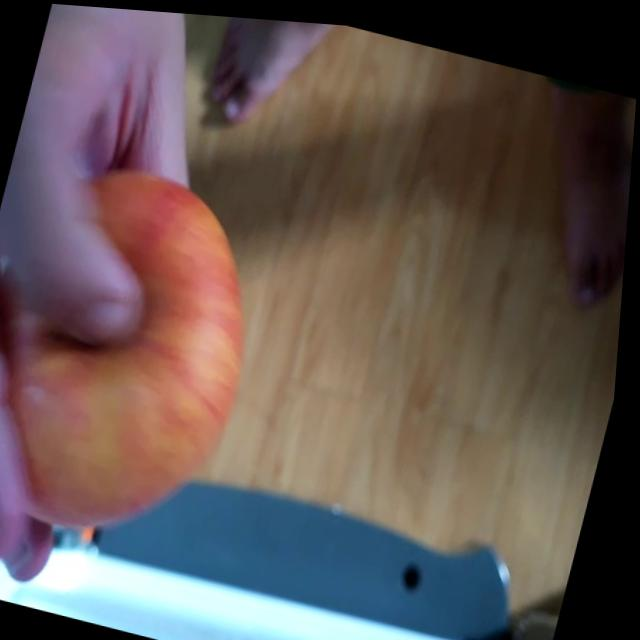apple: (0, 140, 291, 544)
